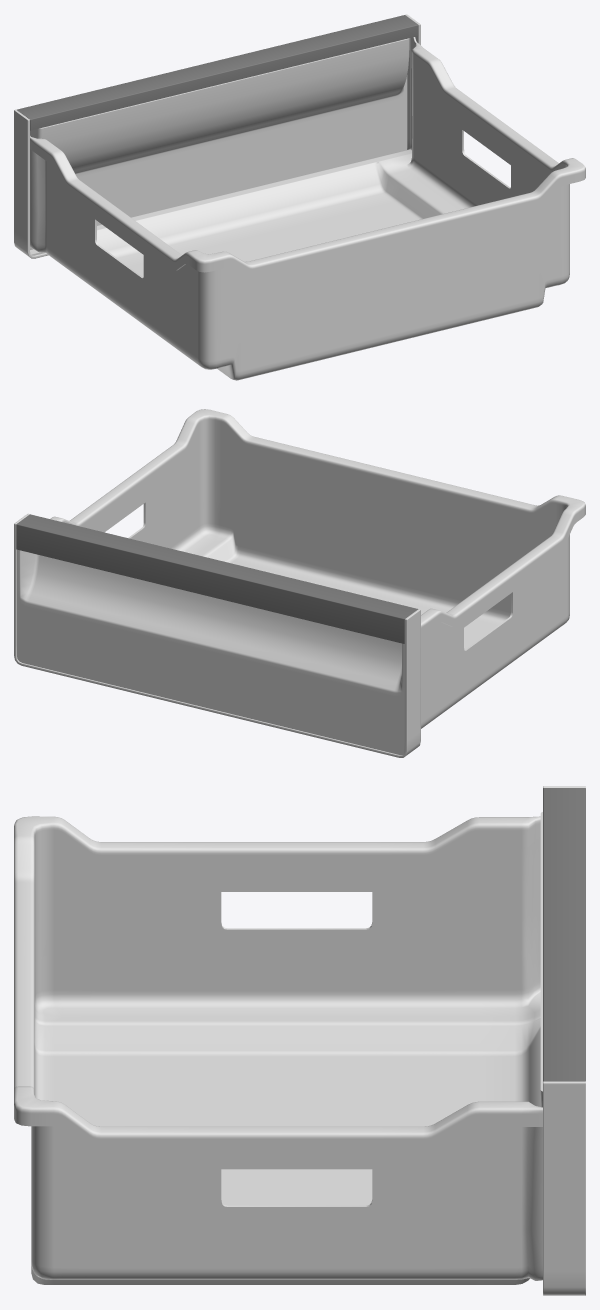
The model's file is SM_Fridge_Drawer_04.dae.
3 views of the same model, one above another, from view 1: azimuth 30°, elevation 25°; view 2: azimuth 150°, elevation 25°; view 3: azimuth 270°, elevation 25° (orthographic). The views are drawn at different scales.
Parts seen in each view (by area): view 1: SM_Fridge_Drawer_04; view 2: SM_Fridge_Drawer_04; view 3: SM_Fridge_Drawer_04.
Part boxes in pixels (x1,y1,x2,y2): SM_Fridge_Drawer_04: [14, 14, 585, 380]; SM_Fridge_Drawer_04: [14, 409, 585, 757]; SM_Fridge_Drawer_04: [14, 786, 585, 1295].
Bounding box in the file's own units: 0.409 × 0.333 × 0.152.
